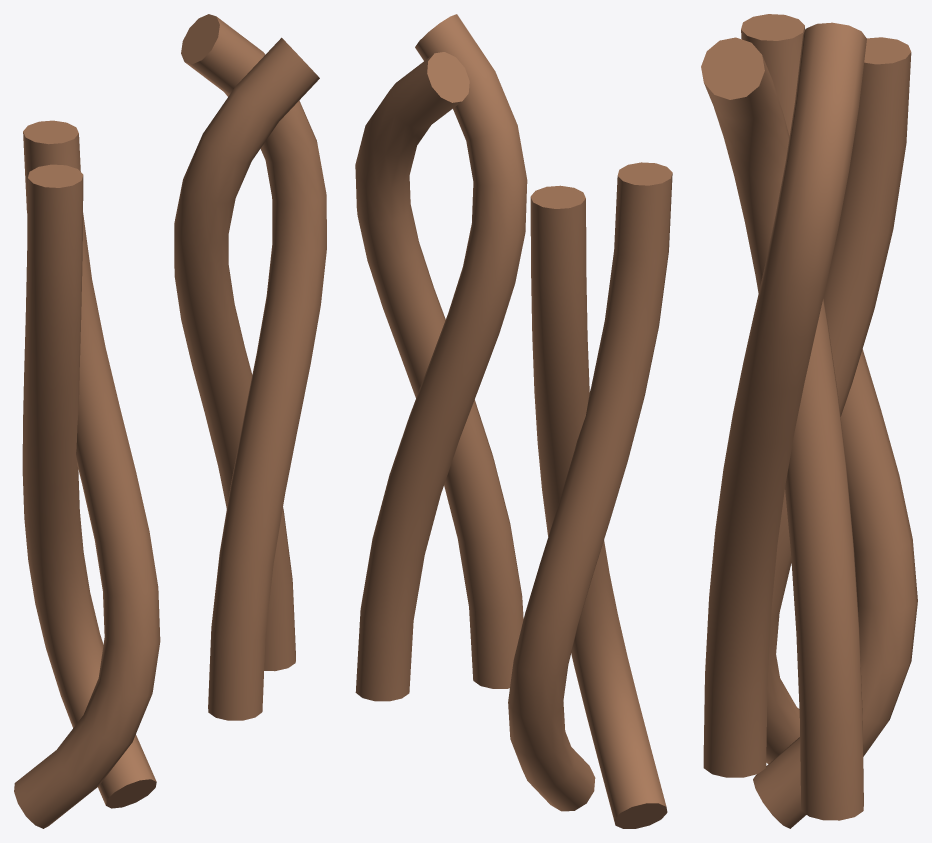
The model's file is rootdoor.fbx.
3 renders of one model, left to right at view 1: azimuth 30°, elevation 25°; view 2: azimuth 150°, elevation 25°; view 3: azimuth 270°, elevation 25°, orthographic. The views are drawn at different scales.
Visible parts, largest first — view 1: BezierCurve.011, BezierCurve, BezierCurve.009, BezierCurve.010; view 2: BezierCurve.010, BezierCurve, BezierCurve.011, BezierCurve.009; view 3: BezierCurve.011, BezierCurve.010, BezierCurve, BezierCurve.009.
Part boxes in pixels (x1=…): BezierCurve.011: x1=181, y1=14, x2=326, y2=720; BezierCurve: x1=22, y1=164, x2=156, y2=808; BezierCurve.009: x1=14, y1=120, x2=160, y2=828; BezierCurve.010: x1=174, y1=37, x2=319, y2=671; BezierCurve.010: x1=355, y1=14, x2=527, y2=701; BezierCurve: x1=508, y1=162, x2=672, y2=811; BezierCurve.011: x1=355, y1=52, x2=523, y2=688; BezierCurve.009: x1=530, y1=185, x2=667, y2=828; BezierCurve.011: x1=703, y1=22, x2=866, y2=777; BezierCurve.010: x1=701, y1=37, x2=863, y2=820; BezierCurve: x1=741, y1=14, x2=917, y2=828; BezierCurve.009: x1=766, y1=37, x2=911, y2=763.
Size of the model in its own units: 661 by 1544 by 351.
